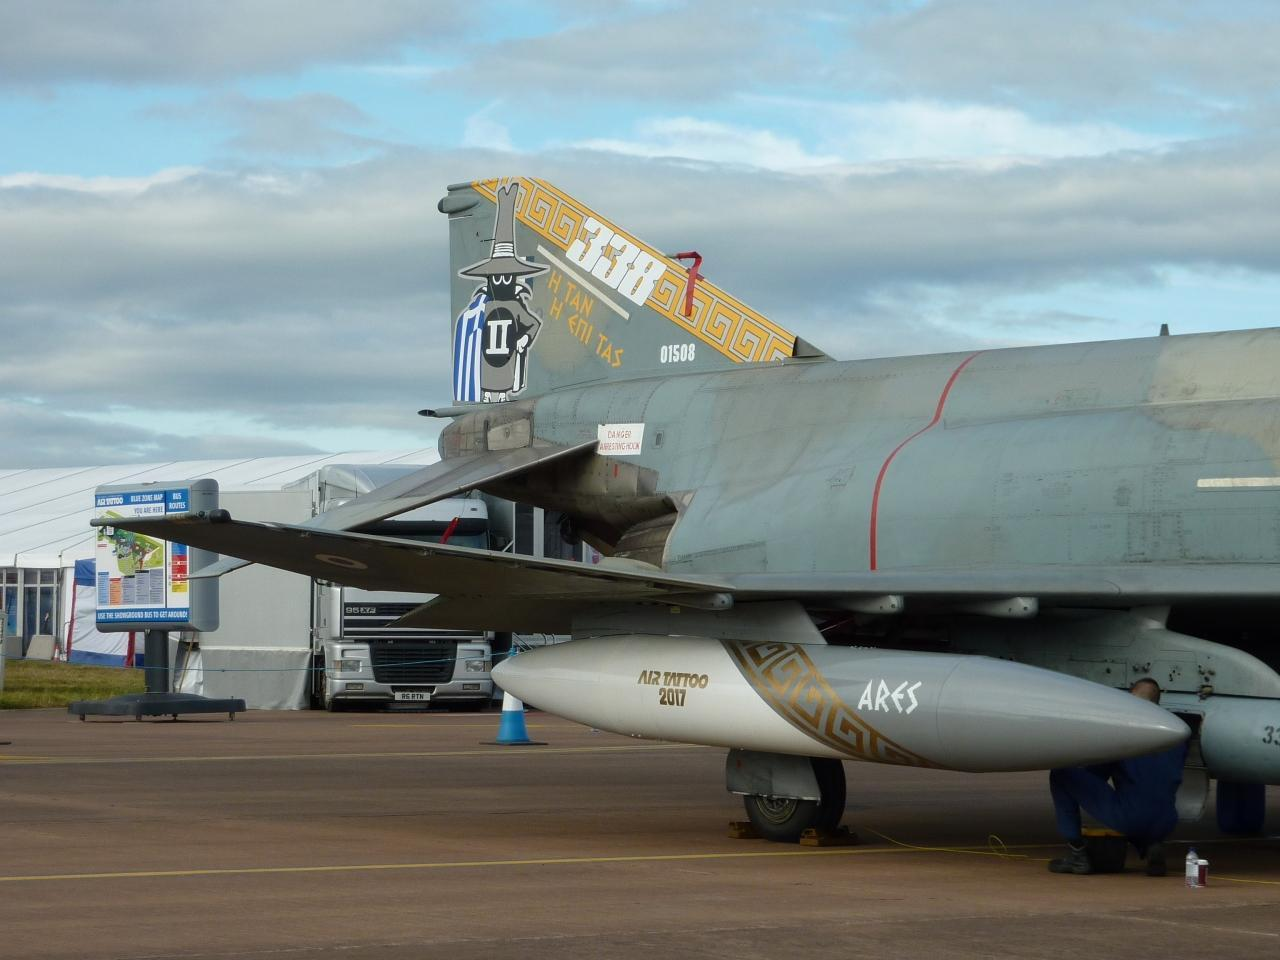F4: (89, 175, 1280, 842)
